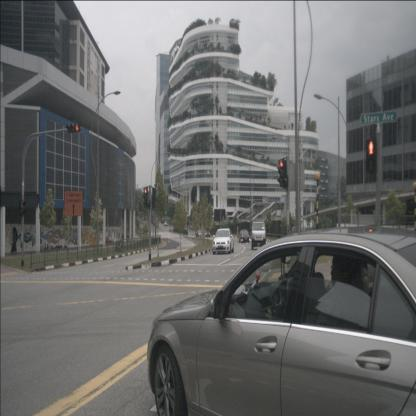vehicle-car: (146, 226, 415, 415), (212, 228, 234, 255), (251, 221, 266, 250), (238, 229, 250, 243), (196, 229, 204, 238), (202, 230, 210, 237)
